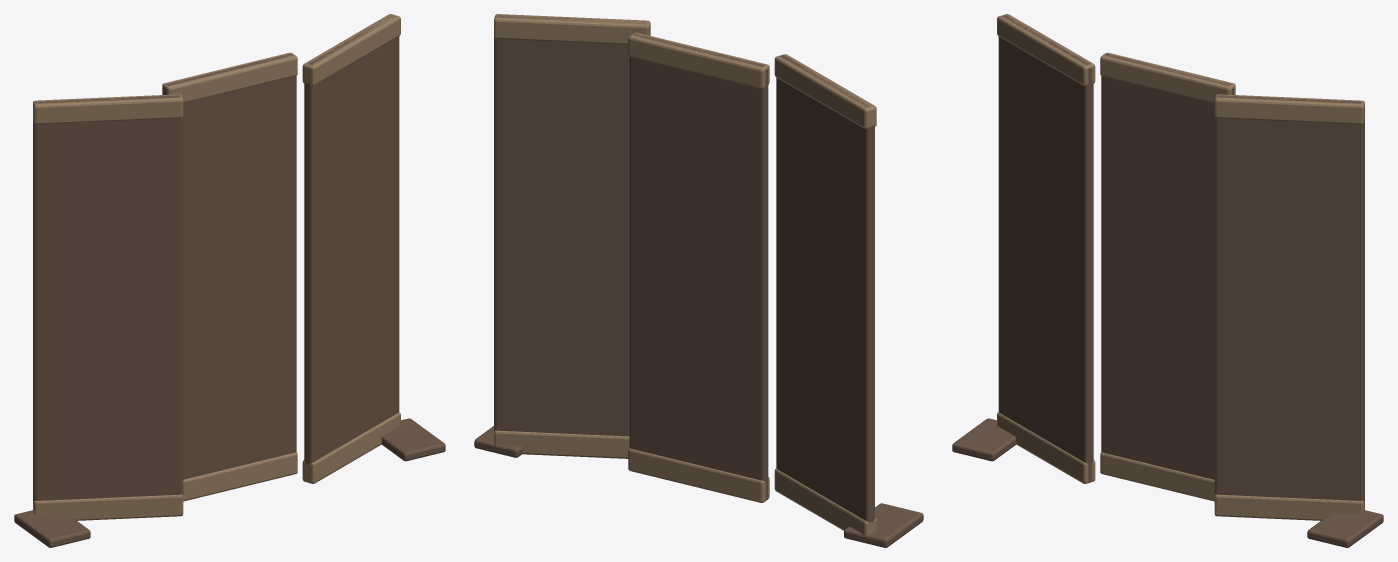
3 renders of one model, left to right at view 1: azimuth 30°, elevation 25°; view 2: azimuth 150°, elevation 25°; view 3: azimuth 330°, elevation 25°, orthographic. The views are drawn at different scales.
Parts seen in each view (by area): view 1: dressingScreen; view 2: dressingScreen; view 3: dressingScreen.
Boxes of the visible parts, x1,y1,x2,y2 form: dressingScreen: [14, 14, 445, 547]; dressingScreen: [474, 14, 923, 547]; dressingScreen: [952, 14, 1383, 547].
Size of the model in its own units: 1.89 by 1.9 by 0.3.
